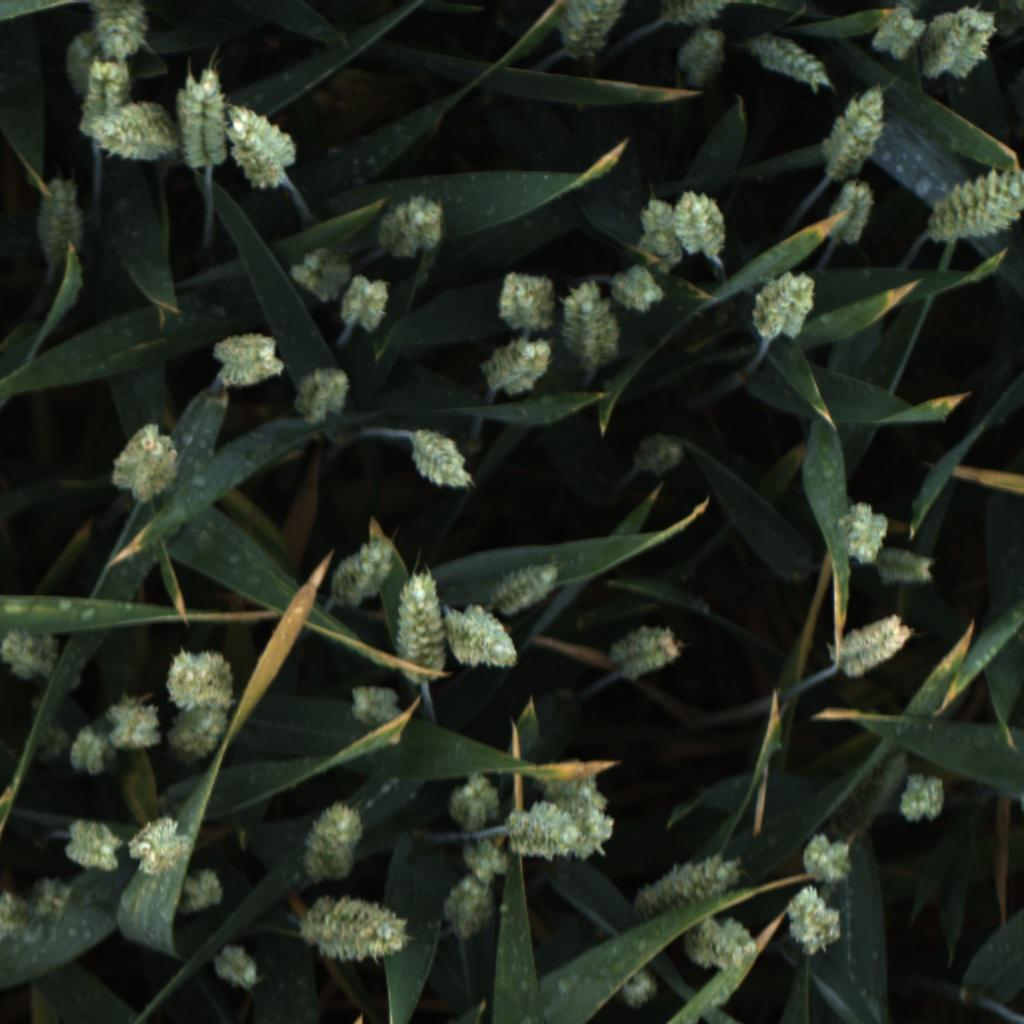0-0: (922, 160, 1024, 249), (634, 842, 750, 919), (298, 886, 411, 961), (540, 771, 618, 866), (820, 85, 899, 174), (826, 612, 917, 685), (318, 532, 400, 612), (112, 415, 184, 506), (230, 98, 301, 190), (390, 566, 446, 682), (298, 794, 370, 883), (921, 5, 1000, 83), (558, 277, 620, 375), (744, 268, 822, 344), (179, 60, 231, 172), (774, 884, 845, 965), (83, 101, 177, 159), (678, 914, 763, 978), (33, 171, 87, 271), (158, 645, 237, 712), (440, 603, 518, 670), (373, 193, 445, 265), (406, 425, 477, 498), (503, 801, 583, 863), (478, 334, 552, 401), (209, 327, 286, 391), (165, 698, 231, 771), (607, 621, 684, 683), (124, 808, 194, 876), (489, 556, 563, 620), (824, 498, 893, 565), (436, 876, 501, 946), (553, 0, 632, 57), (671, 188, 733, 260), (492, 269, 559, 335), (789, 833, 860, 893), (755, 35, 832, 90), (291, 365, 359, 426), (104, 691, 166, 756), (632, 189, 684, 266), (89, 3, 151, 67), (286, 241, 348, 305), (824, 173, 878, 246), (63, 814, 127, 875), (443, 768, 506, 829), (887, 772, 951, 831), (75, 61, 134, 122), (673, 27, 727, 92), (0, 625, 62, 681), (336, 274, 394, 333), (60, 720, 116, 781), (631, 422, 688, 480), (208, 939, 267, 994), (607, 964, 670, 1015), (870, 1, 923, 61), (21, 873, 77, 929), (613, 258, 664, 317), (872, 548, 938, 593), (457, 836, 512, 888), (176, 865, 230, 917), (347, 679, 400, 726), (655, 0, 736, 28), (0, 885, 26, 946)
